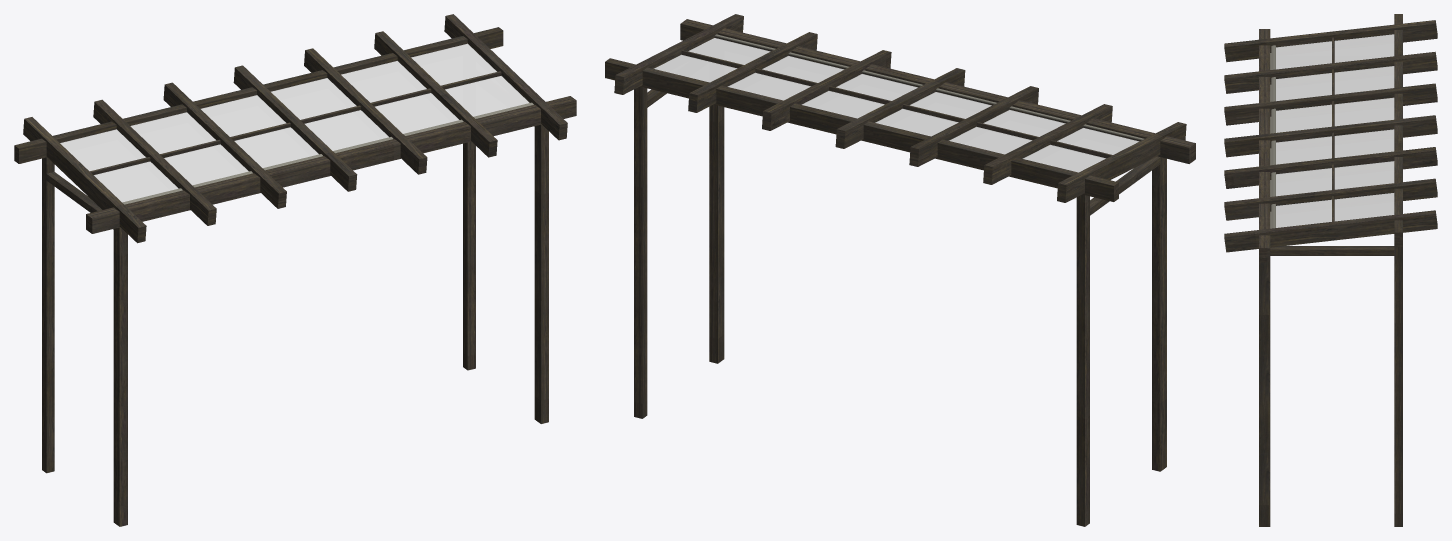
The model's file is 3900-1250_blackpine.fbx.
3 views of the same model, side by side, from view 1: azimuth 30°, elevation 25°; view 2: azimuth 150°, elevation 25°; view 3: azimuth 270°, elevation 25° (orthographic). The views are drawn at different scales.
Parts seen in each view (by area): view 1: 3900-1250_blackpine; view 2: 3900-1250_blackpine; view 3: 3900-1250_blackpine.
Boxes of the visible parts, box(x1,y1,x2,y2) form: 3900-1250_blackpine: box(14, 14, 576, 526); 3900-1250_blackpine: box(605, 14, 1195, 526); 3900-1250_blackpine: box(1224, 14, 1437, 526).
Size of the model in its own units: 448 by 299 by 185.
3 materials, 2 textured.
